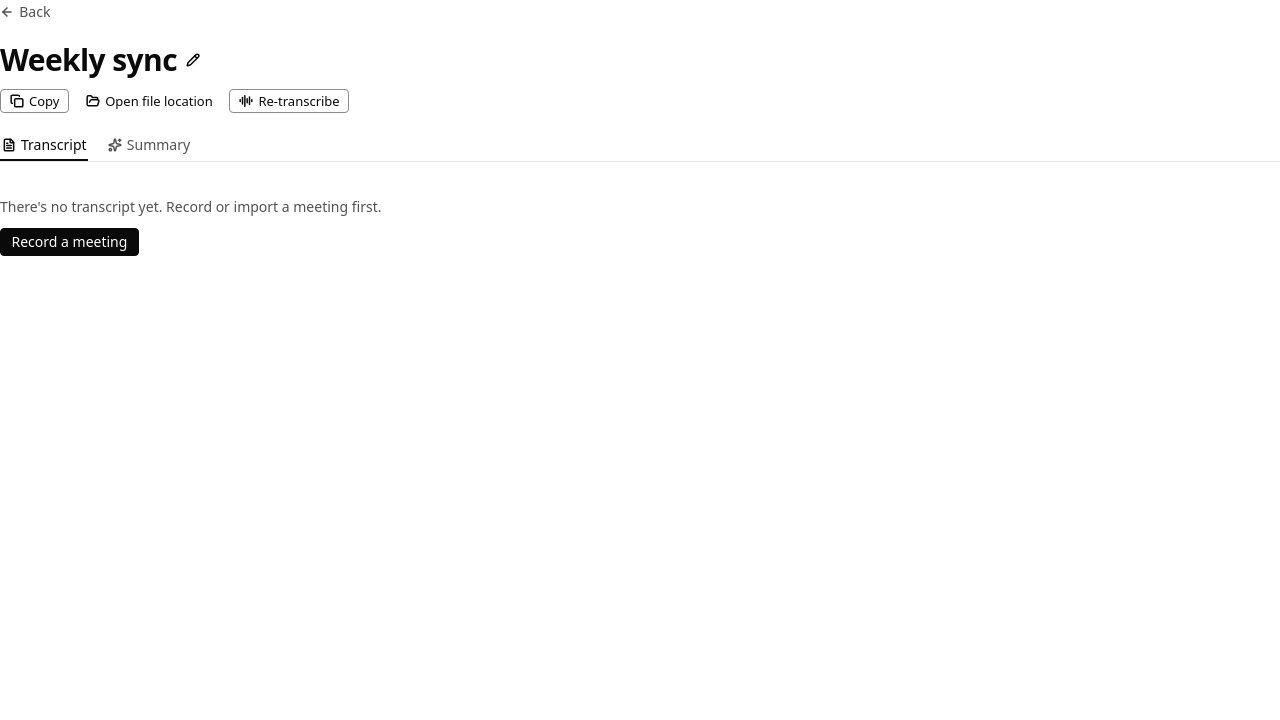
Test: SessionRoute › rename › prefills, disables Rename while blank with a hint, and saves trimmed (27 to 35, B13)
The width and height of the screenshot is (1280, 720).
Expected: the heading "Weekly sync" is shown, x1=0 y1=42 x2=177 y2=78
Click the button with test id "BtnSessionRename".
click(193, 60)  # box x1=180 y1=48 x2=205 y2=72
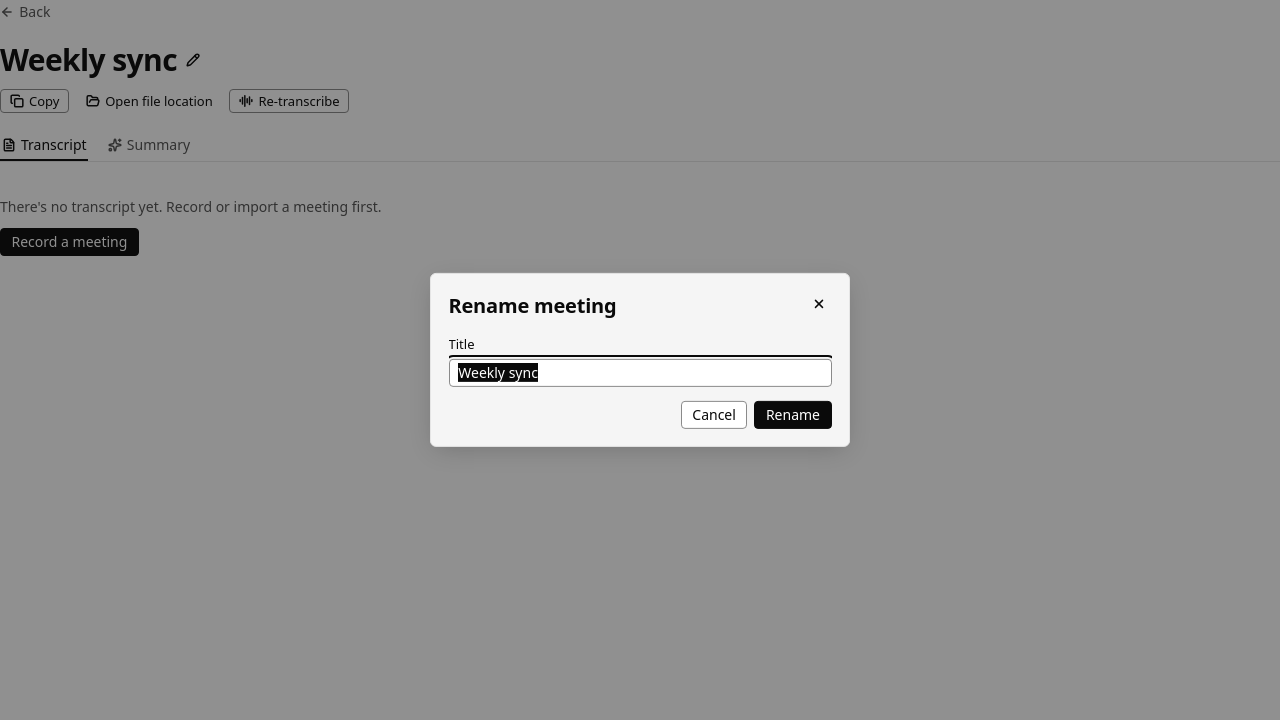
Result: the field labelled "Title" holds "Weekly sync"
Clear the field labelled "Title" at (640,373), box x1=448 y1=359 x2=832 y2=387
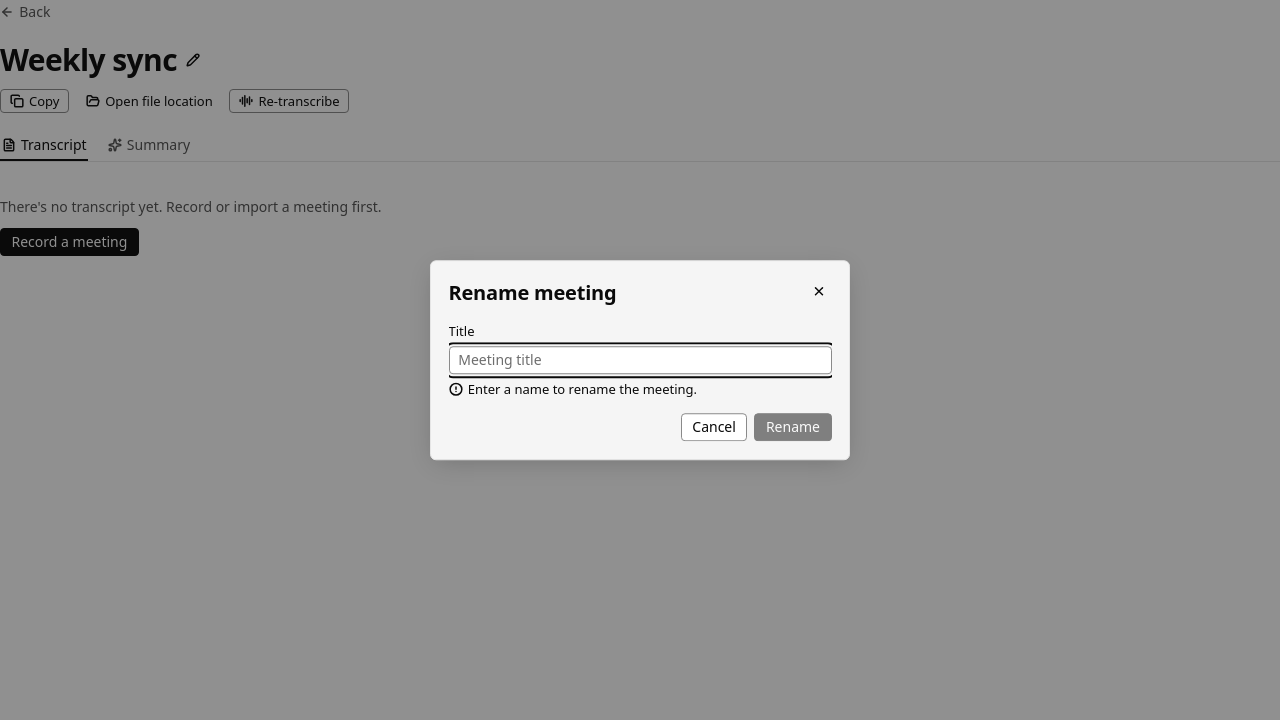
Result: the text "Enter a name to rename the meeting." is shown at x1=468 y1=379 x2=697 y2=399
Type "  Friday plan  " into the field labelled "Title".
click(640, 360); type("  Friday plan  ")  # box x1=448 y1=346 x2=832 y2=374
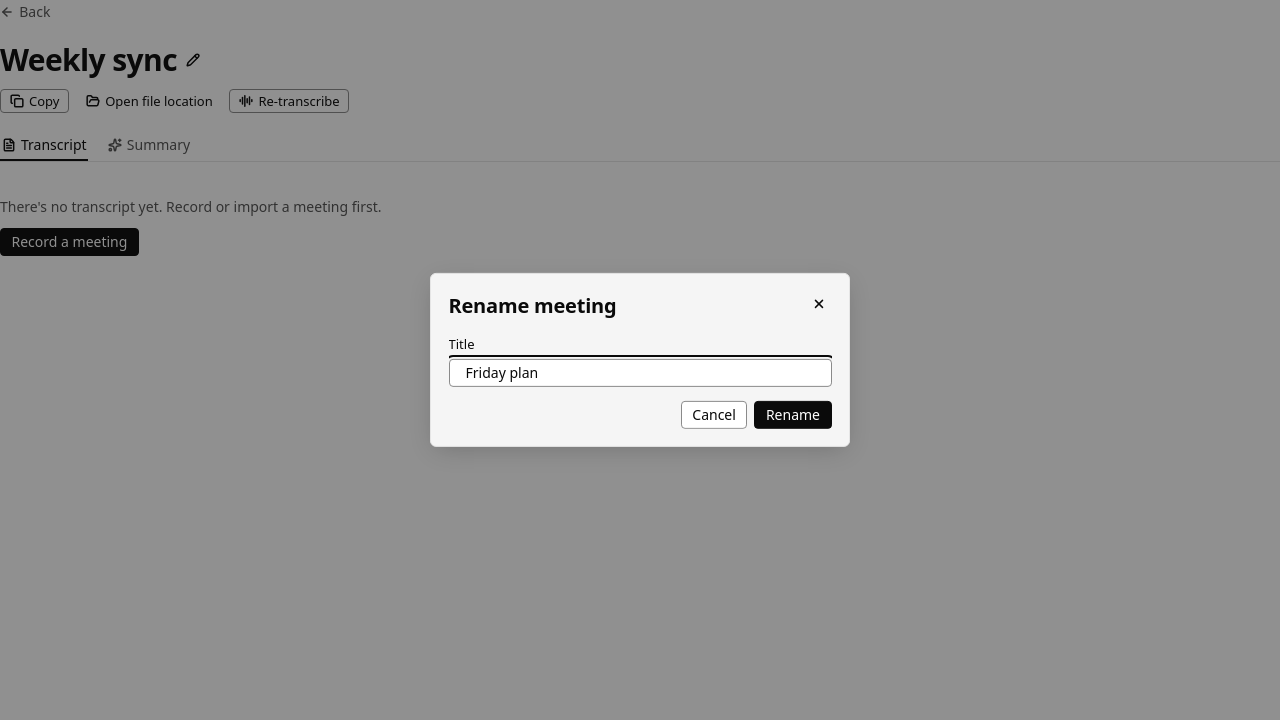
Click the button "Rename".
click(793, 415)  # box x1=754 y1=401 x2=832 y2=429
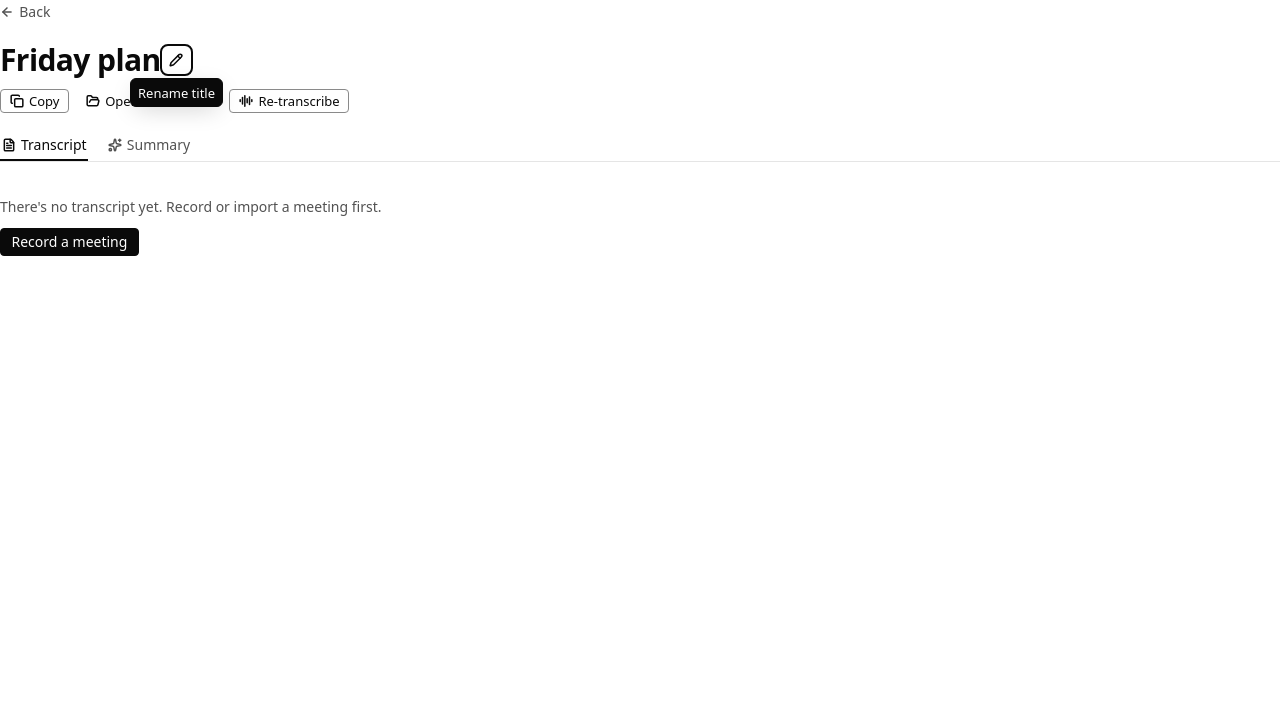
Result: the heading "Friday plan" is shown at x1=0 y1=42 x2=161 y2=78
Result: the dialog is gone
